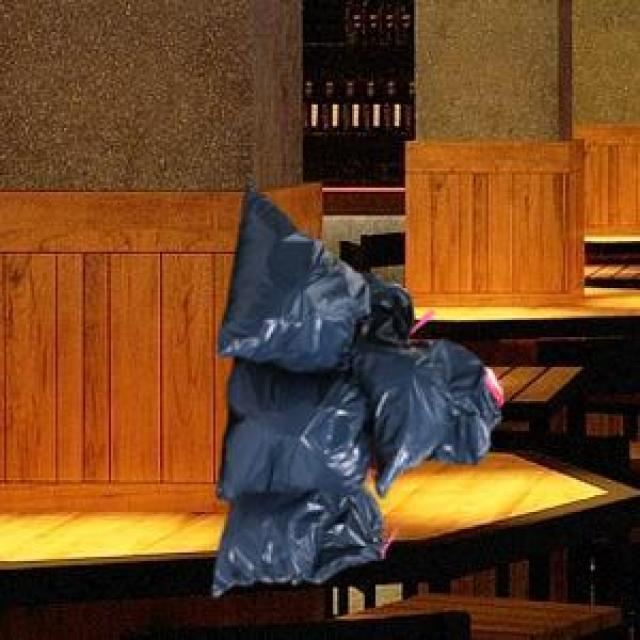miscellaneous trash: (209, 179, 499, 593)
